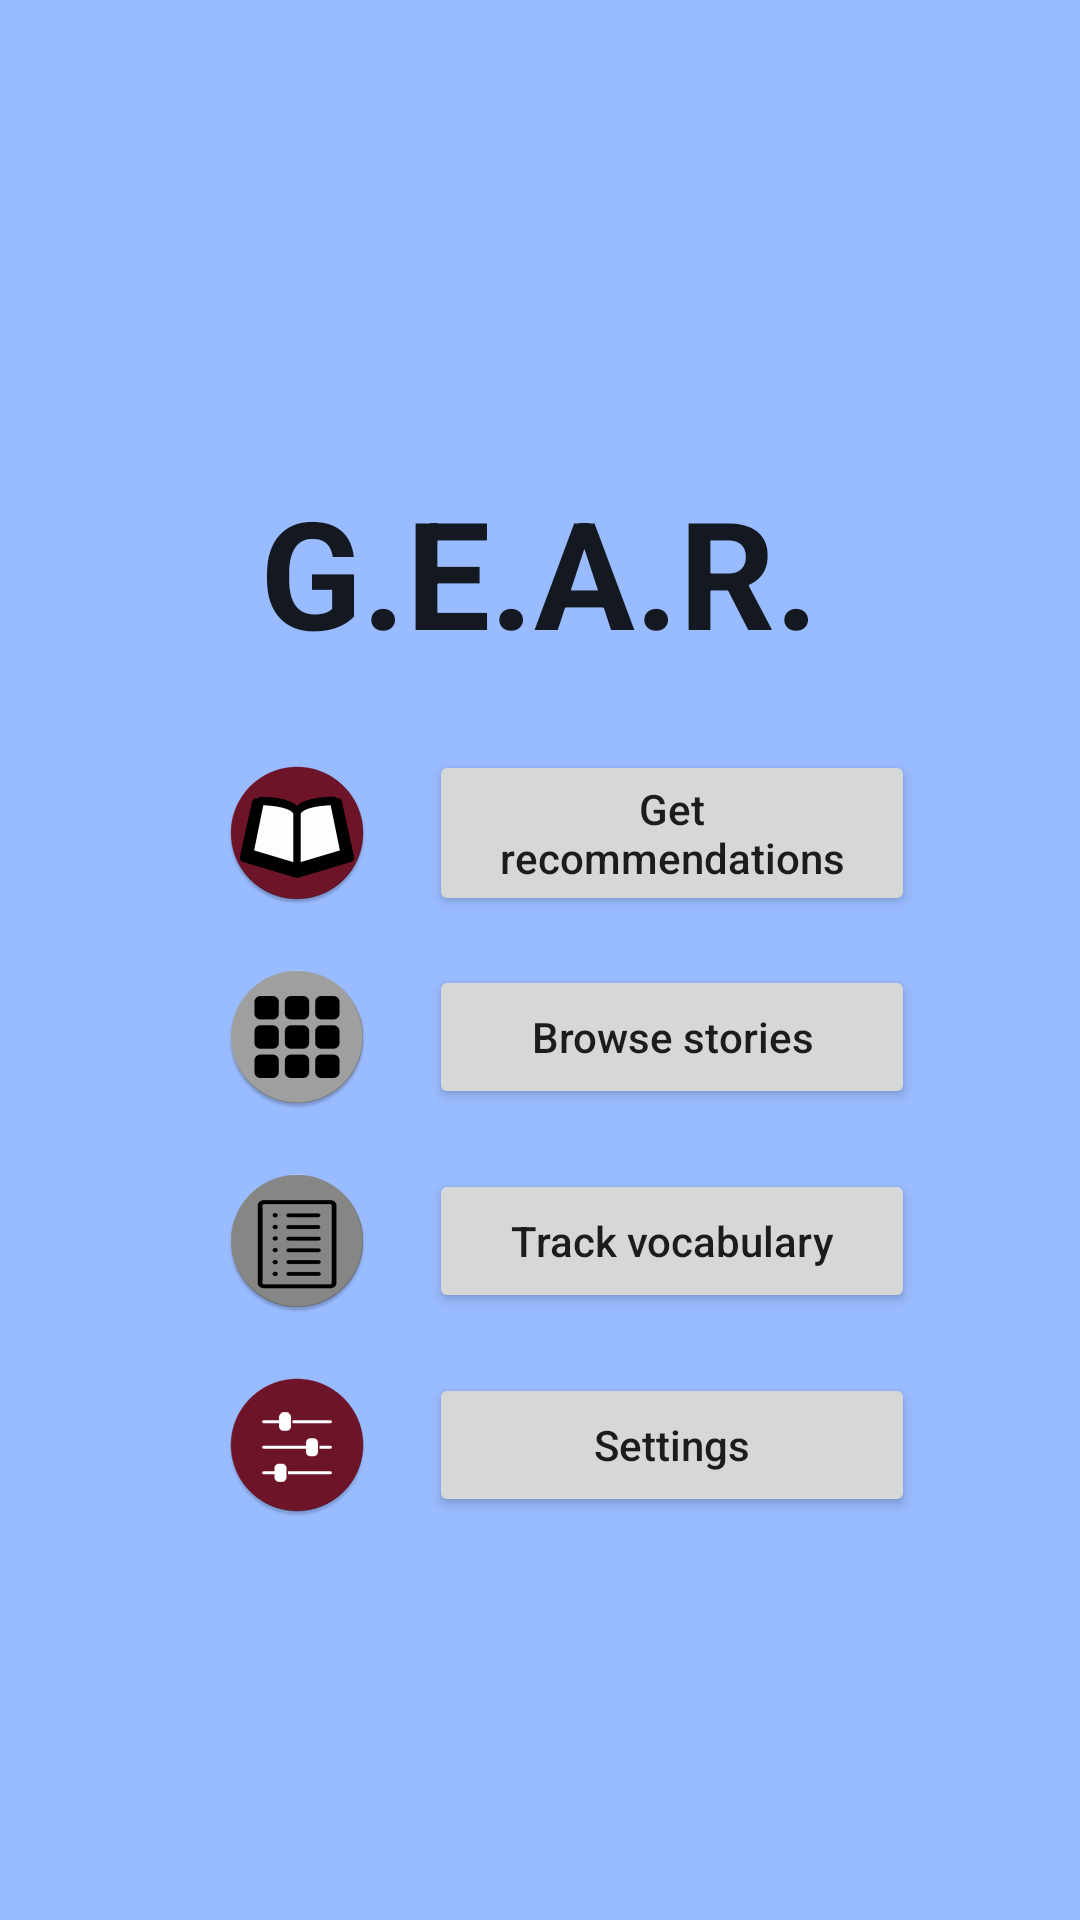

Named icons in this screenshot (1080 x 1920) and their centers, (x,y):
allstories: (297,1038)
